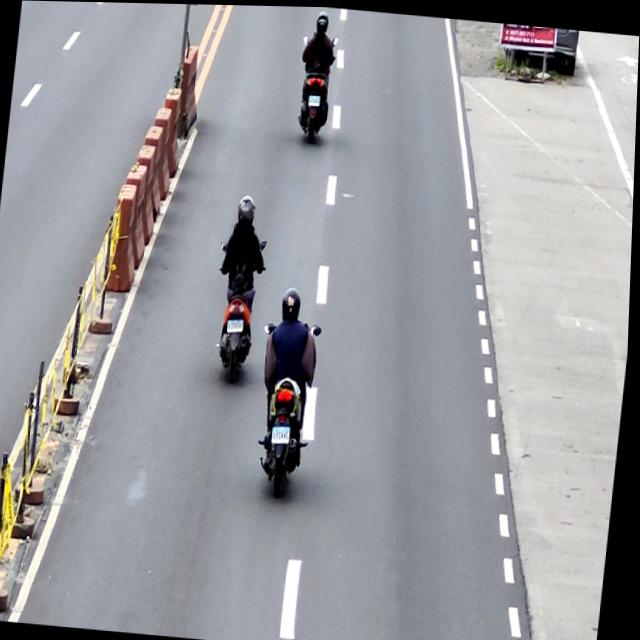License-Plate: (273, 423, 293, 443), (228, 317, 246, 333), (308, 92, 321, 107)
Motorcycle: (250, 318, 325, 499), (208, 238, 268, 386), (293, 33, 338, 143)
